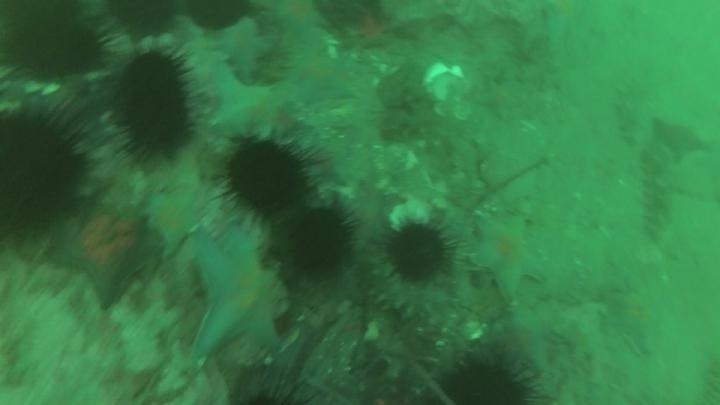echinus: (1, 106, 90, 244), (113, 51, 195, 160), (4, 14, 109, 81), (222, 139, 311, 216), (286, 208, 357, 277), (440, 356, 538, 404), (383, 221, 455, 284), (229, 361, 319, 405), (105, 1, 180, 40), (3, 1, 85, 32), (313, 1, 388, 34), (183, 1, 254, 35)
holothurian: (362, 257, 455, 323), (635, 143, 674, 244), (612, 79, 653, 151)
starfish: (186, 229, 290, 360), (48, 203, 158, 308), (206, 72, 306, 143), (469, 213, 547, 301), (603, 283, 668, 355), (484, 311, 555, 376), (279, 45, 353, 102), (142, 190, 204, 256), (211, 18, 274, 81), (651, 115, 711, 165), (271, 1, 328, 39), (476, 77, 524, 121)
